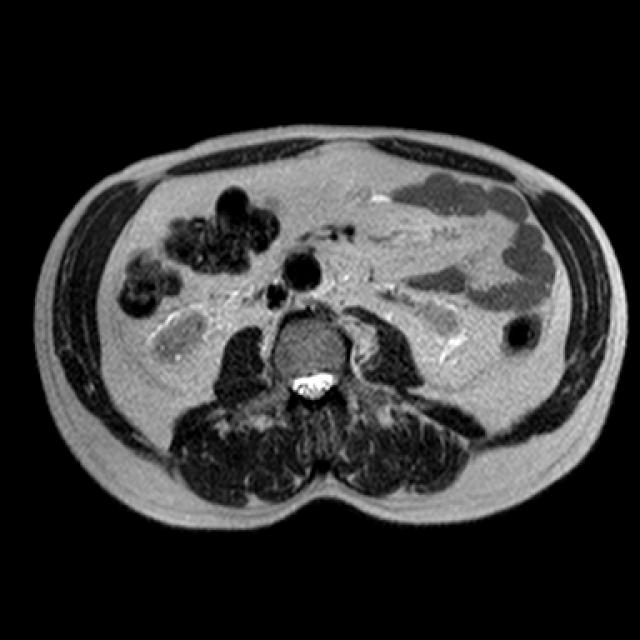sag: (147, 303, 213, 366)
sol: (418, 291, 467, 344)
